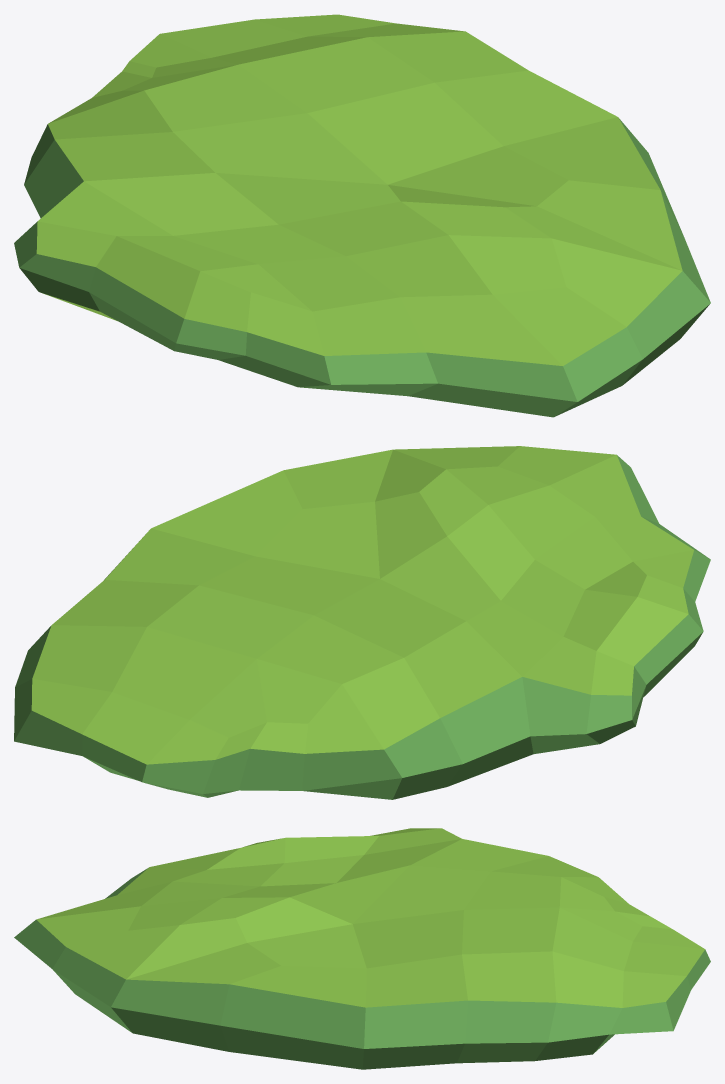
Rendered from plain.fbx.
The picture shows the model from 3 angles, top to bottom: view 1: azimuth 30°, elevation 25°; view 2: azimuth 150°, elevation 25°; view 3: azimuth 270°, elevation 25°; orthographic projection. The views are drawn at different scales.
Visible parts, largest first — view 1: Asteroid_2012_D14; view 2: Asteroid_2012_D14; view 3: Asteroid_2012_D14.
Part boxes in pixels (box(x1,y1,x2,y2)): Asteroid_2012_D14: box(14, 14, 710, 417); Asteroid_2012_D14: box(14, 446, 710, 799); Asteroid_2012_D14: box(14, 828, 710, 1069).
Size of the model in its own units: 17078 by 3527 by 23852.
